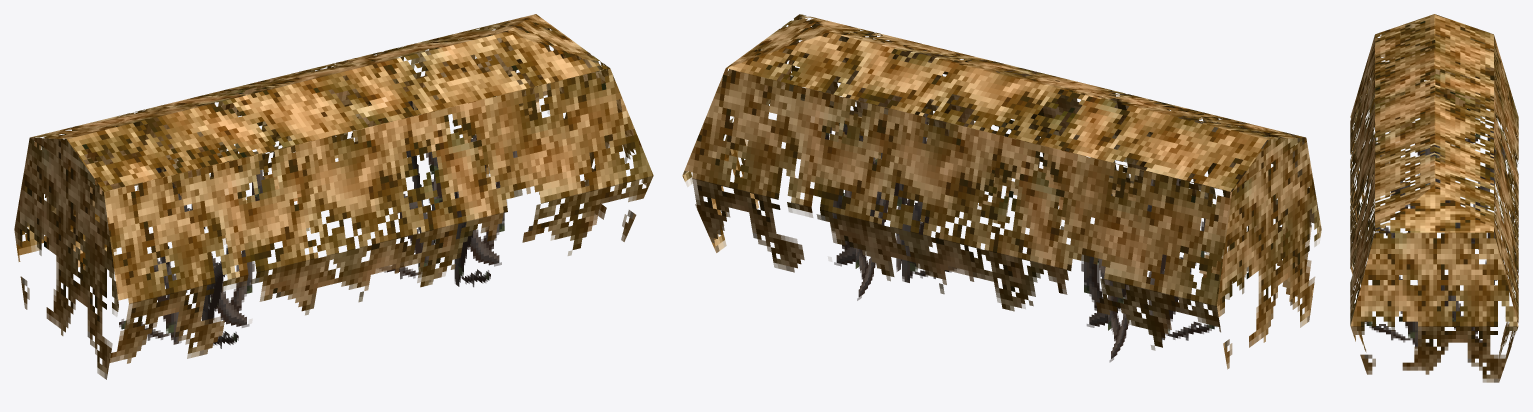
Rendered from bush_long_open_right_roots_autumn.glb.
3 renders of one model, left to right at view 1: azimuth 30°, elevation 25°; view 2: azimuth 150°, elevation 25°; view 3: azimuth 270°, elevation 25°, orthographic. The views are drawn at different scales.
Parts seen in each view (by area): view 1: bush_long_open_right_roots_autumn; view 2: bush_long_open_right_roots_autumn; view 3: bush_long_open_right_roots_autumn.
Part boxes in pixels (x1,y1,x2,y2): bush_long_open_right_roots_autumn: (14, 14, 653, 379); bush_long_open_right_roots_autumn: (682, 14, 1321, 369); bush_long_open_right_roots_autumn: (1350, 14, 1518, 382).
Size of the model in its own units: 2.12 by 0.8765 by 0.7191.
2 materials, 2 textured.
